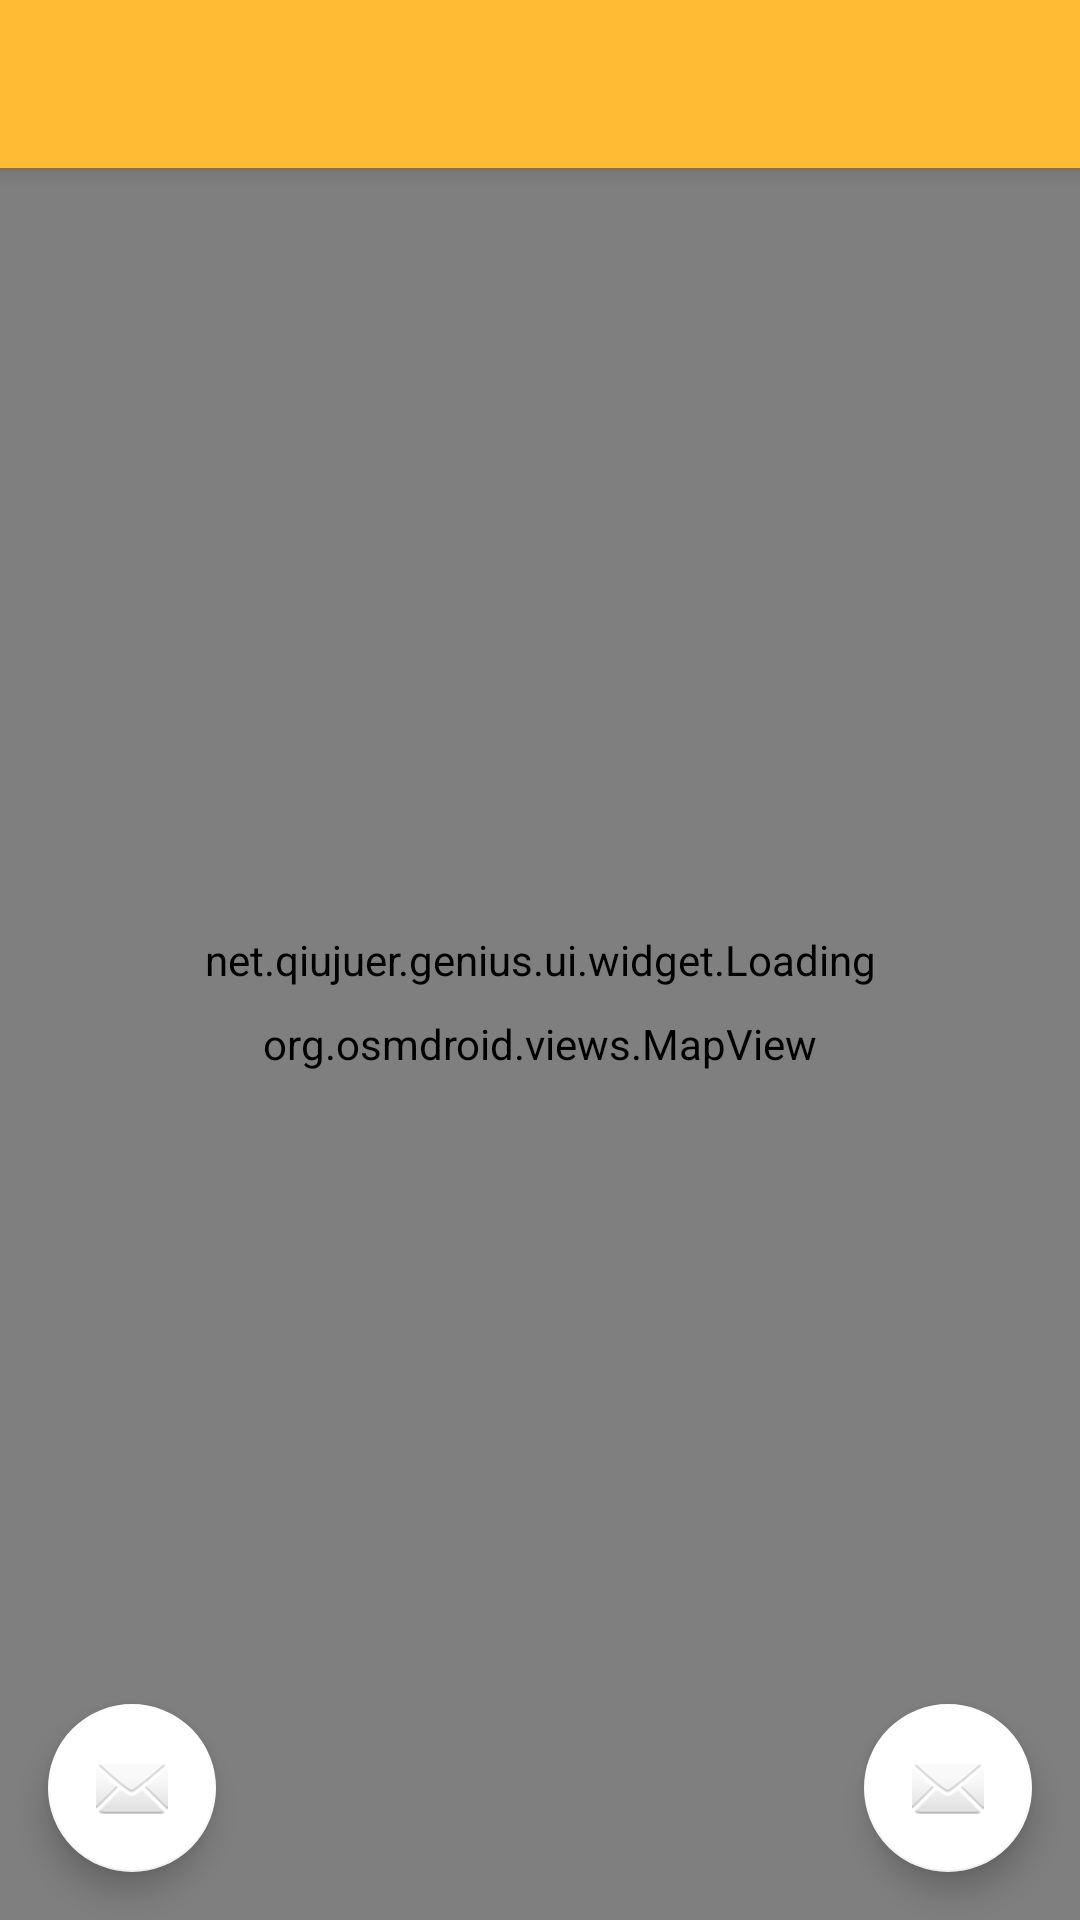

Point at icon controls on the screen. Image size 1080px×1920px, points as (x=x, y=y).
email: (x=132, y=1788), (x=948, y=1788)
